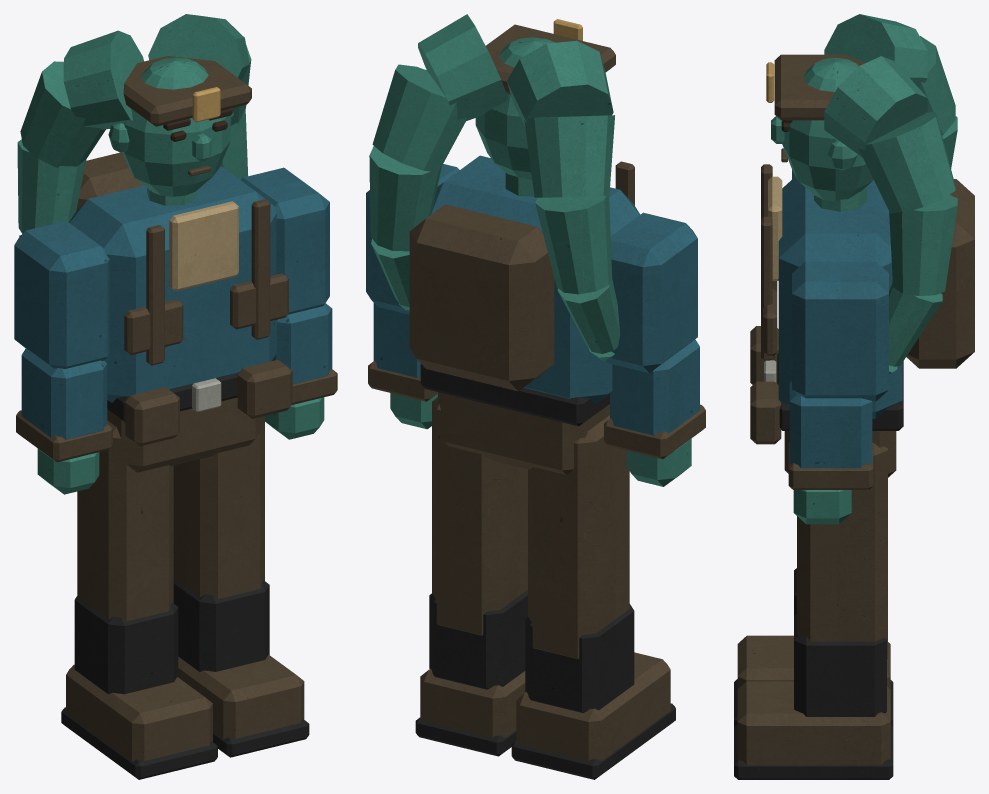
Rendered from citizen-twilek.glb.
The picture shows the model from 3 angles, left to right: view 1: azimuth 30°, elevation 25°; view 2: azimuth 150°, elevation 25°; view 3: azimuth 270°, elevation 25°; orthographic projection. The views are drawn at different scales.
Parts seen in each view (by area): view 1: Actor_Body | Population worn enamel and cloth.001, Actor_Head | Population worn enamel and cloth.001, Actor_Leg_L | Population worn enamel and cloth.001, Actor_Leg_R | Population worn enamel and cloth.001, Actor_Arm_L | Population worn enamel and cloth.001, Actor_Arm_R | Population worn enamel and cloth.001; view 2: Actor_Head | Population worn enamel and cloth.001, Actor_Body | Population worn enamel and cloth.001, Actor_Leg_L | Population worn enamel and cloth.001, Actor_Leg_R | Population worn enamel and cloth.001, Actor_Arm_L | Population worn enamel and cloth.001, Actor_Arm_R | Population worn enamel and cloth.001; view 3: Actor_Head | Population worn enamel and cloth.001, Actor_Leg_R | Population worn enamel and cloth.001, Actor_Body | Population worn enamel and cloth.001, Actor_Arm_R | Population worn enamel and cloth.001, Actor_Leg_L | Population worn enamel and cloth.001.
Boxes of the visible parts, left/top/right/bottom form: Actor_Body | Population worn enamel and cloth.001: left=69, top=152, right=292, bottom=472; Actor_Head | Population worn enamel and cloth.001: left=17, top=14, right=251, bottom=236; Actor_Leg_L | Population worn enamel and cloth.001: left=61, top=420, right=217, bottom=779; Actor_Leg_R | Population worn enamel and cloth.001: left=173, top=416, right=309, bottom=757; Actor_Arm_L | Population worn enamel and cloth.001: left=14, top=221, right=112, bottom=494; Actor_Arm_R | Population worn enamel and cloth.001: left=241, top=167, right=337, bottom=439; Actor_Head | Population worn enamel and cloth.001: left=369, top=14, right=620, bottom=361; Actor_Body | Population worn enamel and cloth.001: left=409, top=155, right=640, bottom=474; Actor_Leg_L | Population worn enamel and cloth.001: left=511, top=415, right=675, bottom=779; Actor_Leg_R | Population worn enamel and cloth.001: left=415, top=397, right=527, bottom=756; Actor_Arm_L | Population worn enamel and cloth.001: left=604, top=212, right=705, bottom=486; Actor_Arm_R | Population worn enamel and cloth.001: left=366, top=164, right=459, bottom=429; Actor_Head | Population worn enamel and cloth.001: left=766, top=14, right=957, bottom=373; Actor_Leg_R | Population worn enamel and cloth.001: left=734, top=443, right=893, bottom=779; Actor_Body | Population worn enamel and cloth.001: left=750, top=164, right=974, bottom=477; Actor_Arm_R | Population worn enamel and cloth.001: left=788, top=261, right=888, bottom=524; Actor_Leg_L | Population worn enamel and cloth.001: left=734, top=568, right=893, bottom=726.
Size of the model in its own units: 0.81 by 1.87 by 0.5825.
1 material, 1 textured.
